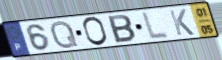6: (25, 23, 52, 52)
B: (106, 14, 137, 45)
K: (168, 8, 197, 37)
L: (141, 10, 171, 41)
O: (81, 16, 110, 47)
Q: (49, 19, 81, 50)
